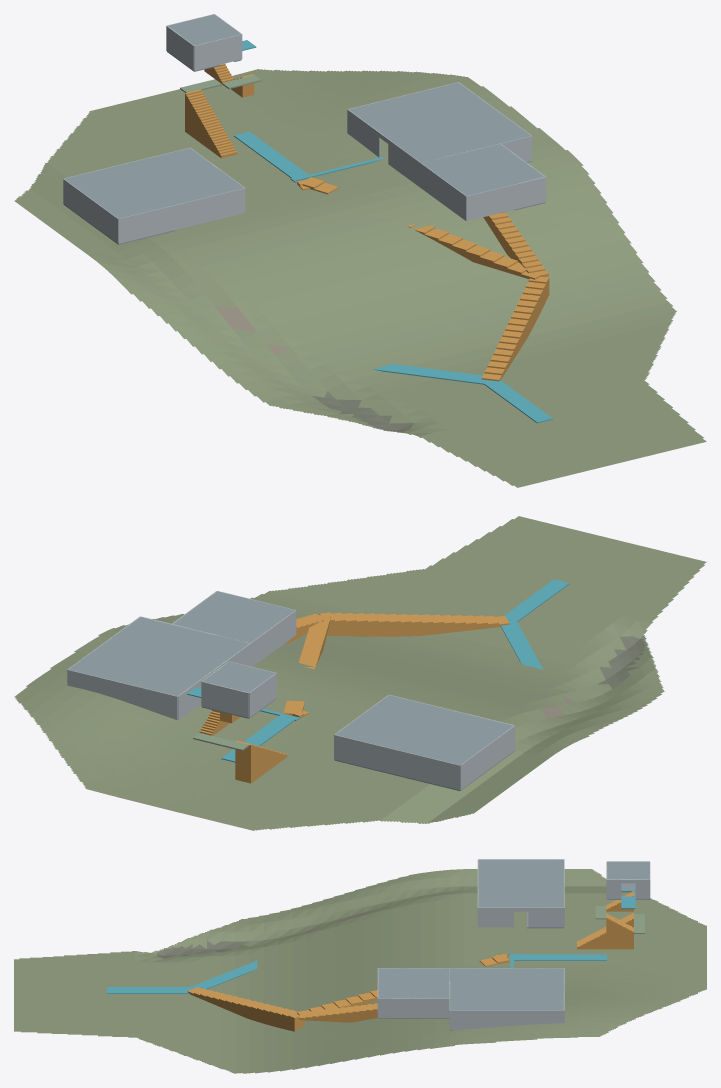
The model's file is terrain-assembly.glb.
3 views of the same model, one above another, from view 1: azimuth 30°, elevation 25°; view 2: azimuth 150°, elevation 25°; view 3: azimuth 270°, elevation 25° (orthographic). The views are drawn at different scales.
Parts seen in each view (by area): view 1: Saved editor macroterrain WLD-04, Ceiling cap ruin, Ceiling cap hut, Ceiling cap store, Wall hut S, Wall store S, Wall hut W, Ceiling cap cab, Wall cab S, Wall store W, L02 support 0, Wall ruin W (+2 smaller); view 2: Saved editor macroterrain WLD-04, Ceiling cap ruin, Ceiling cap hut, Ceiling cap store, Wall hut N, Wall ruin N, Wall hut W, Ceiling cap cab, Wall cab N, Wall store W, L02 support 0, Wall cab W (+3 smaller); view 3: Saved editor macroterrain WLD-04, Ceiling cap ruin, Ceiling cap hut, Ceiling cap store, Wall ruin E, Wall store E, Ceiling cap cab, Wall hut E, Wall hut E.001, L02 support 0.
Boxes of the visible parts, x1,y1,x2,y2 form: Saved editor macroterrain WLD-04: (14,69,706,487); Ceiling cap ruin: (348,82,530,162); Ceiling cap hut: (64,148,243,218); Ceiling cap store: (421,144,544,195); Wall hut S: (118,188,245,243); Wall store S: (466,177,545,220); Wall hut W: (63,179,118,243); Ceiling cap cab: (168,14,241,45); Wall cab S: (194,34,241,70); Wall store W: (420,163,466,220); L02 support 0: (372,364,489,384); Wall ruin W: (347,109,380,157); Saved editor macroterrain WLD-04: (14,516,706,830); Ceiling cap ruin: (68,617,249,696); Ceiling cap hut: (335,695,513,765); Ceiling cap store: (173,591,294,643); Wall hut N: (334,735,460,790); Wall ruin N: (67,669,177,720); Wall hut W: (460,725,515,789); Ceiling cap cab: (202,661,275,692); Wall cab N: (201,681,248,717); Wall store W: (250,610,296,666); L02 support 0: (500,620,543,669); Wall cab W: (249,673,276,717); Saved editor macroterrain WLD-04: (14,869,706,1073); Ceiling cap ruin: (449,968,563,1010); Ceiling cap hut: (478,859,563,907); Ceiling cap store: (378,968,449,998); Wall ruin E: (449,1010,563,1029); Wall store E: (378,998,449,1017); Ceiling cap cab: (607,861,649,879); Wall hut E: (528,907,563,927); Wall hut E.001: (478,907,513,927); L02 support 0: (191,960,257,989).
Bounding box in the file's own units: 59 × 19.15 × 97.
